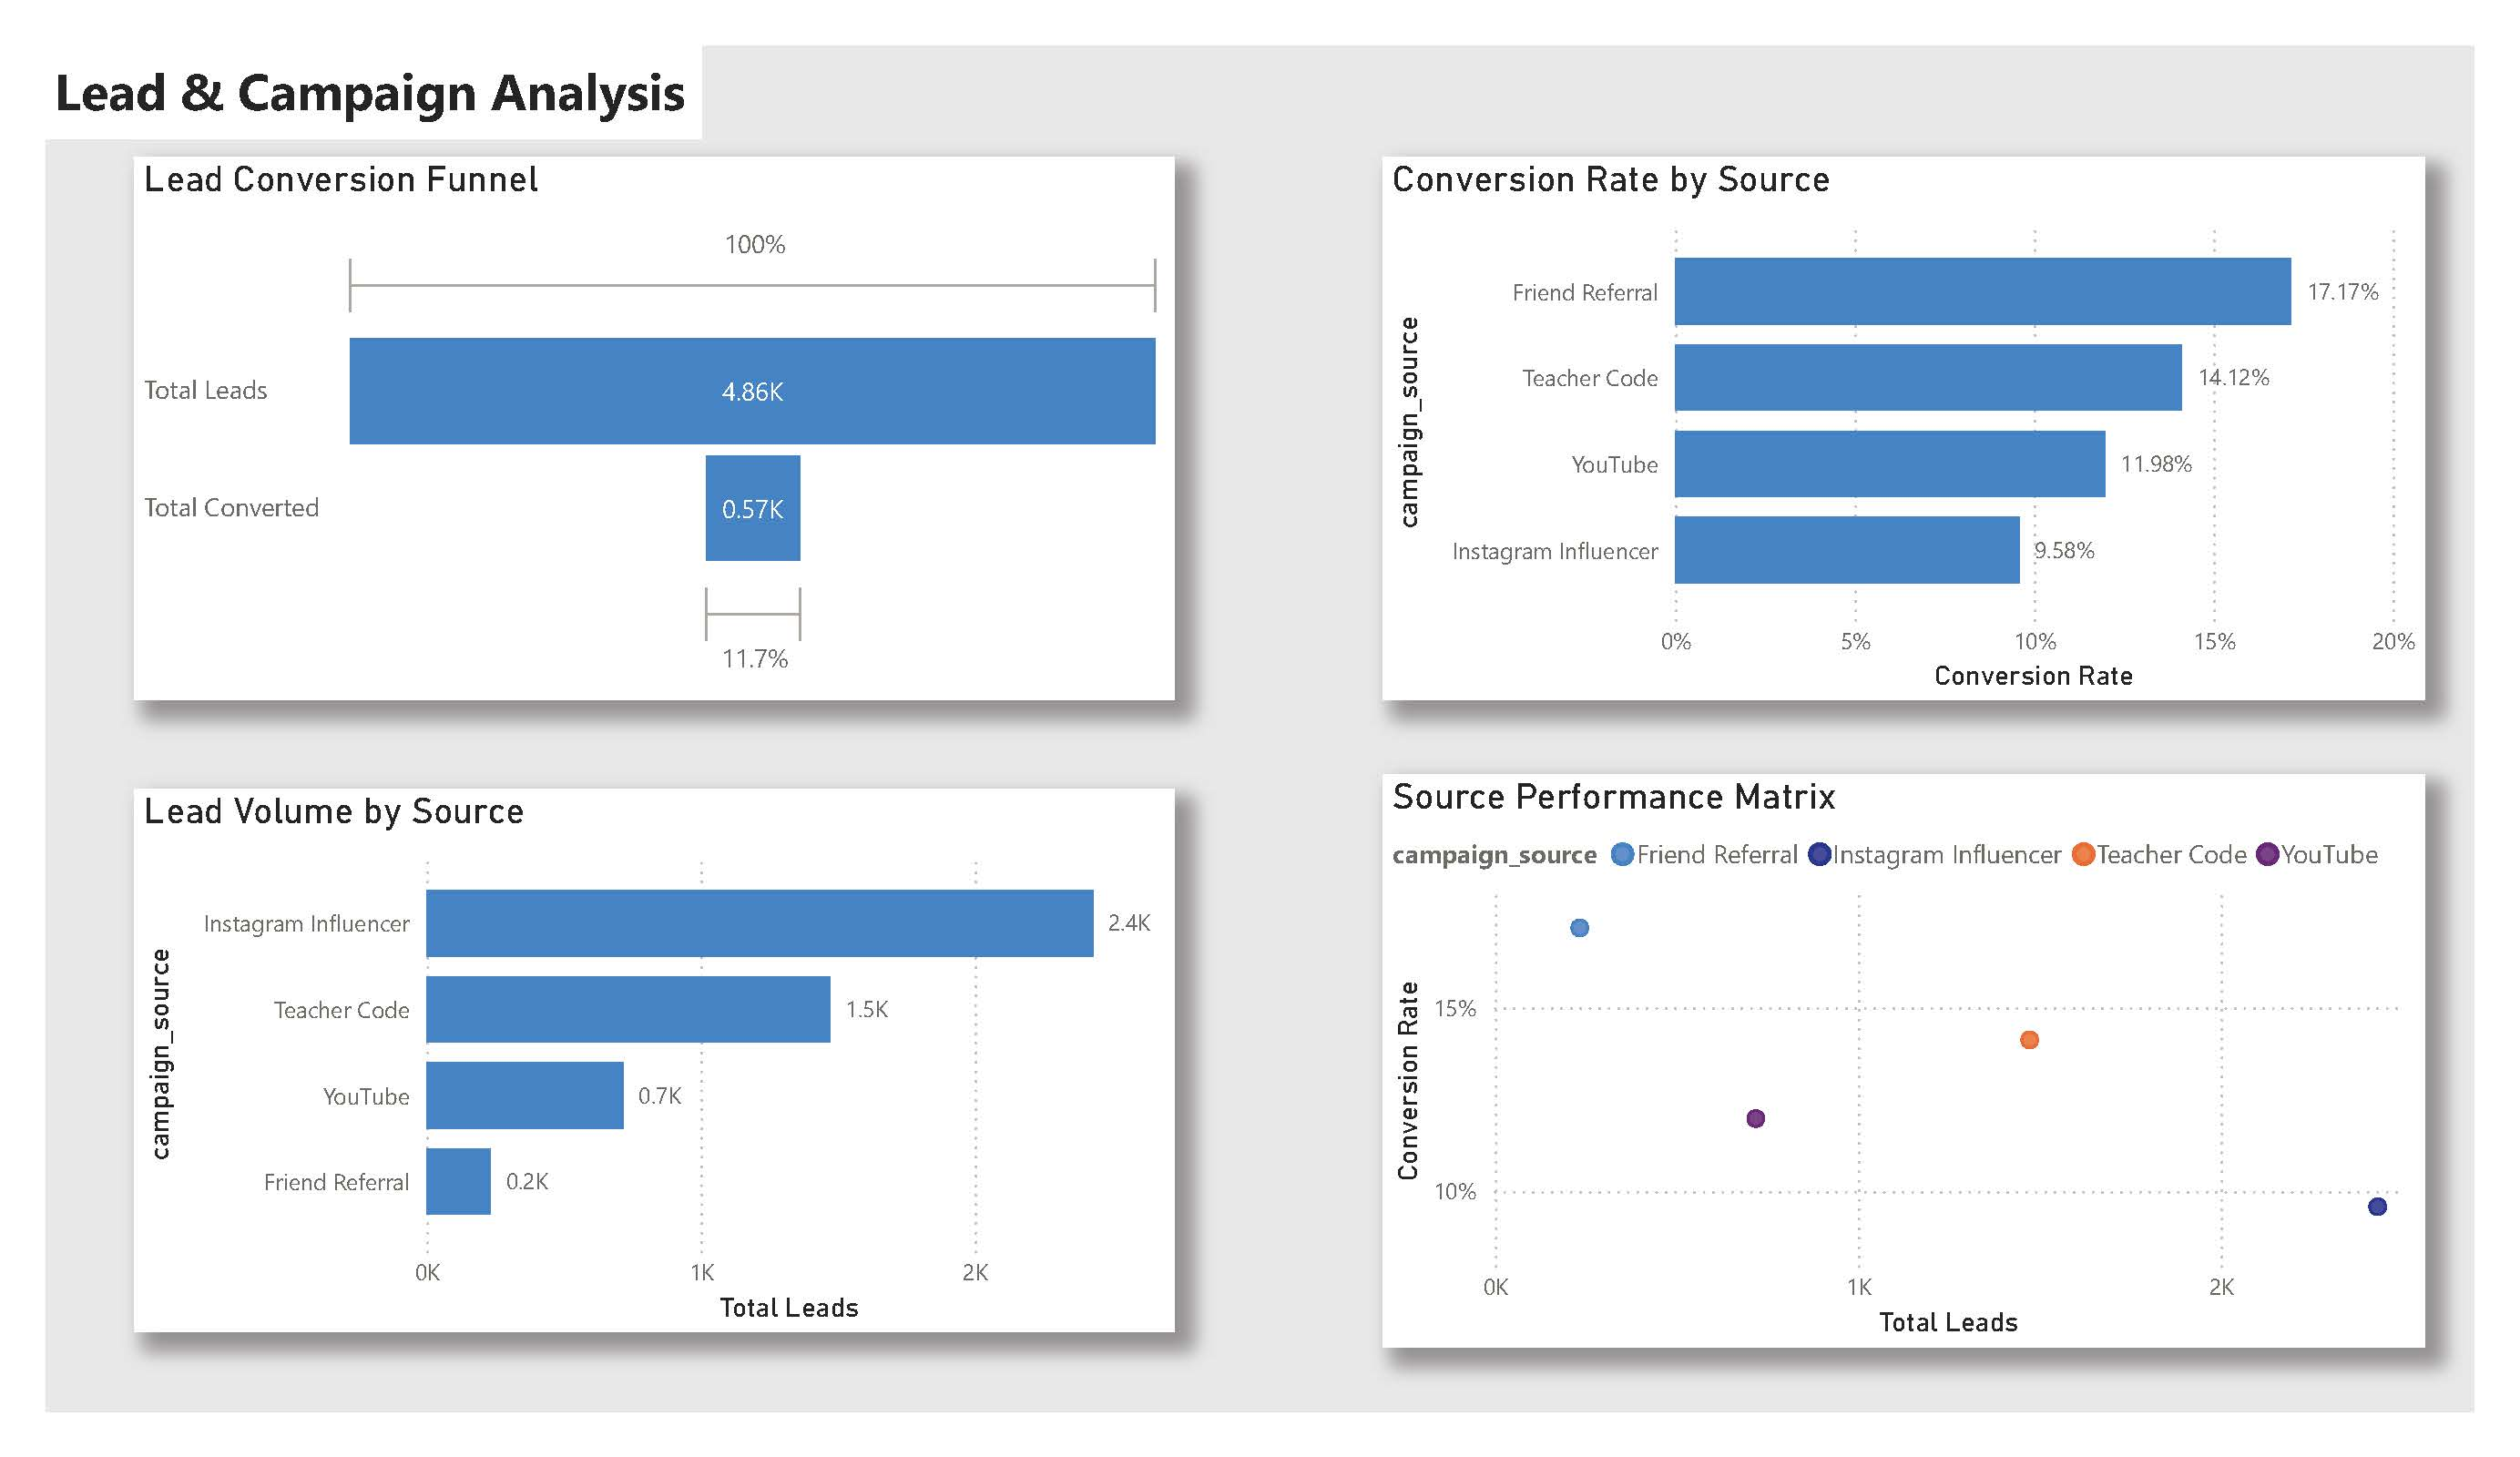

This screenshot's page, from the dashboard's own definition file:
{"tool":"powerbi","page":{"name":"Lead & Campaign Analysis","canvas":[1280,720],"ordinal":2},"visuals":[{"type":"funnel","title":"Lead Conversion Funnel","fields":{"Y":["edtech leads.Total Leads","edtech leads.Total Converted"]},"box":[46.7,59.3,548.6,286],"z":0},{"type":"clusteredBarChart","title":"Lead Volume by Source","fields":{"Category":["edtech campaigns.campaign_source"],"Y":["edtech leads.Total Leads"]},"box":[46.7,391.9,548.6,286],"z":1000},{"type":"clusteredBarChart","title":"Conversion Rate by Source","fields":{"Category":["edtech campaigns.campaign_source"],"Y":["edtech leads.Conversion Rate"]},"box":[705.2,59.3,548.6,286],"z":2000},{"type":"scatterChart","title":"Source Performance Matrix","fields":{"X":["edtech leads.Total Leads"],"Y":["edtech leads.Conversion Rate"],"Category":["edtech campaigns.campaign_source"],"Series":["edtech campaigns.campaign_source"]},"box":[705.2,384.2,548.6,301.5],"z":3000},{"type":"textbox","box":[0,0,346.3,48.6],"z":4000}]}

Visuals, with their boxes on the page's 1280x720 design canvas (x1, y1, x2, y2). These are canvas units, not pixel positions in the 2520x1457 screenshot, which may show the page scaled, cropped or inside an application window:
"Lead Conversion Funnel" funnel: crop(47, 59, 595, 345)
"Lead Volume by Source" clusteredBarChart: crop(47, 392, 595, 678)
"Conversion Rate by Source" clusteredBarChart: crop(705, 59, 1254, 345)
"Source Performance Matrix" scatterChart: crop(705, 384, 1254, 686)
textbox: crop(0, 0, 346, 49)
